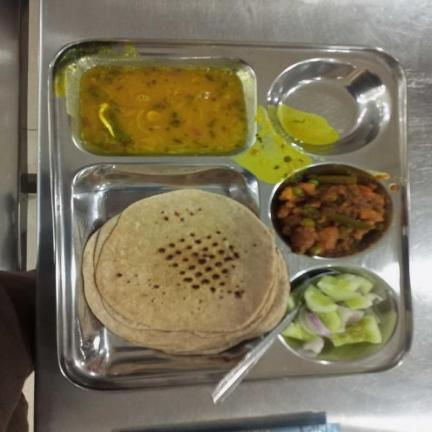Chana Dal: (79, 64, 248, 155)
Mix Veg: (278, 175, 386, 255)
Plate: (47, 39, 414, 394)
Roti: (83, 188, 291, 358)
Salad: (286, 273, 382, 355)
